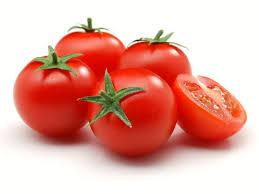tomato: (87, 66, 178, 156), (14, 57, 96, 134), (54, 30, 126, 80), (119, 40, 189, 85)
